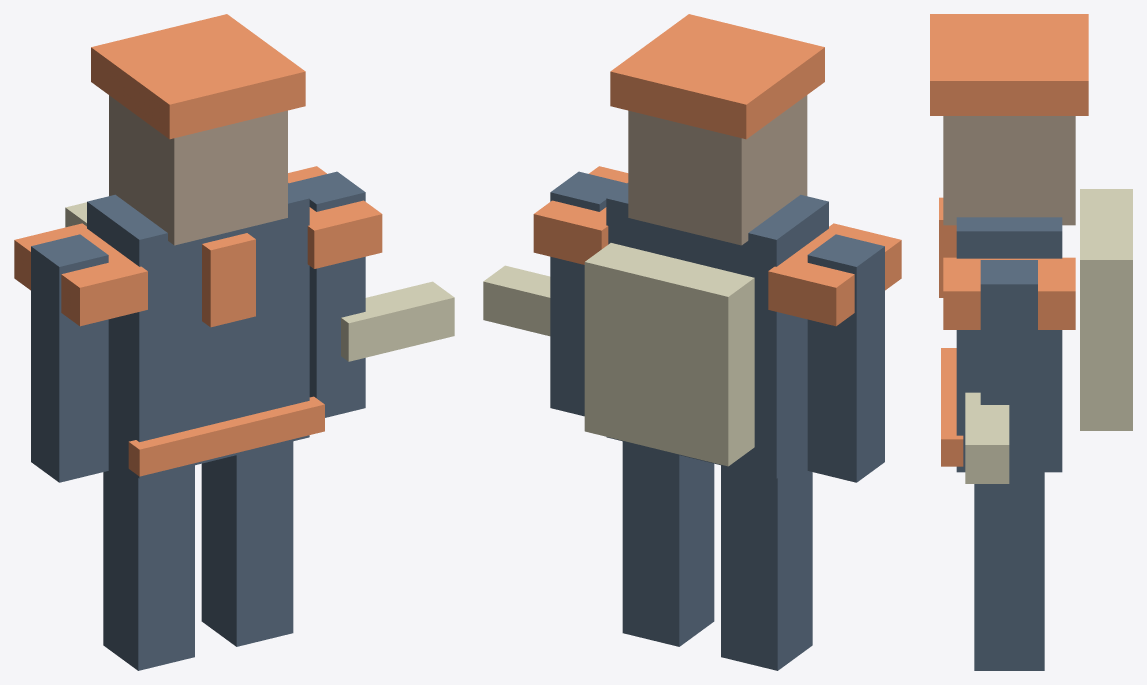
File: 14_eryk_voidrill_operator_near_troop.glb
The picture shows the model from 3 angles, left to right: view 1: azimuth 30°, elevation 25°; view 2: azimuth 150°, elevation 25°; view 3: azimuth 270°, elevation 25°; orthographic projection.
Parts seen in each view (by area): view 1: Eryk Voidrill, Operator near Troop; view 2: Eryk Voidrill, Operator near Troop; view 3: Eryk Voidrill, Operator near Troop.
Boxes of the visible parts, x1=… form: Eryk Voidrill, Operator near Troop: x1=14, y1=14, x2=454, y2=670; Eryk Voidrill, Operator near Troop: x1=483, y1=14, x2=901, y2=670; Eryk Voidrill, Operator near Troop: x1=930, y1=14, x2=1132, y2=670.
Bounding box in the file's own units: 1.08 × 1.54 × 0.4826.
